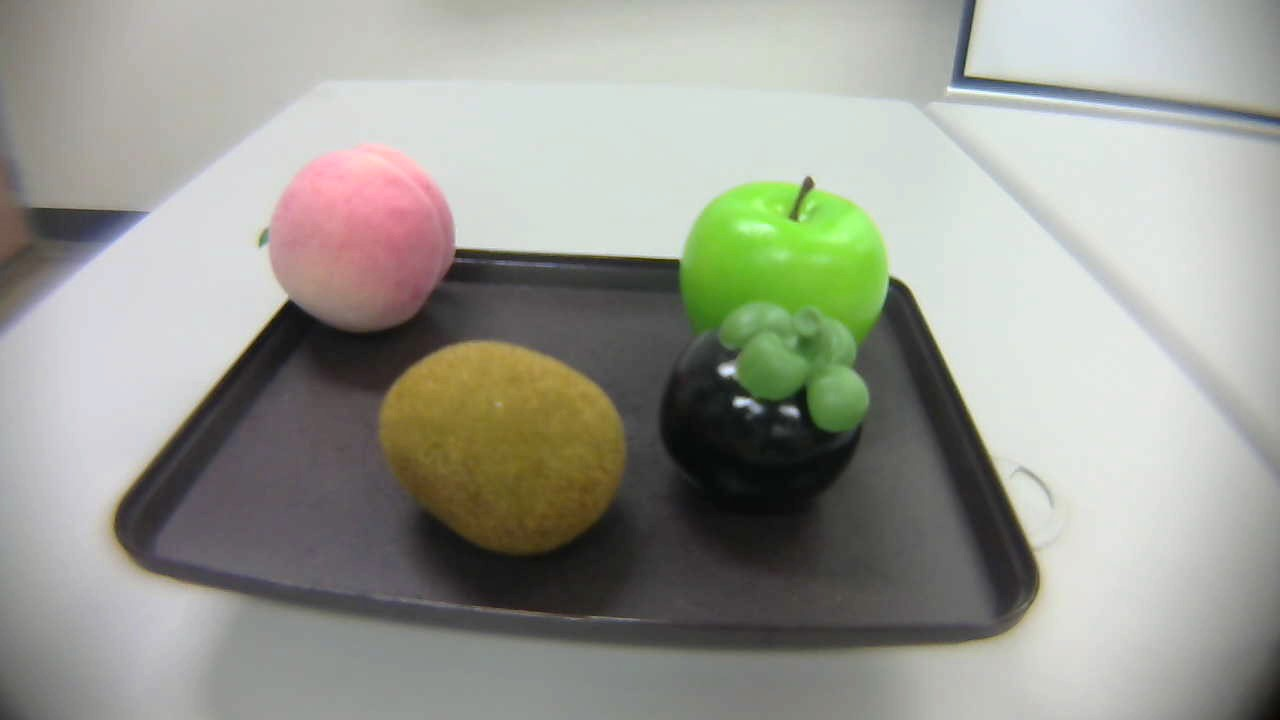green apple: (675, 173, 903, 371)
kiwi fruit: (360, 335, 629, 553)
mangosteen: (658, 294, 869, 519)
peach: (250, 144, 465, 353)
